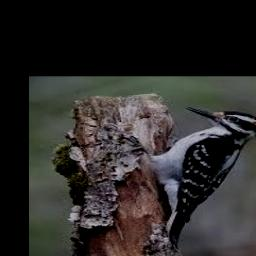Woodpecker: (149, 107, 256, 247)
